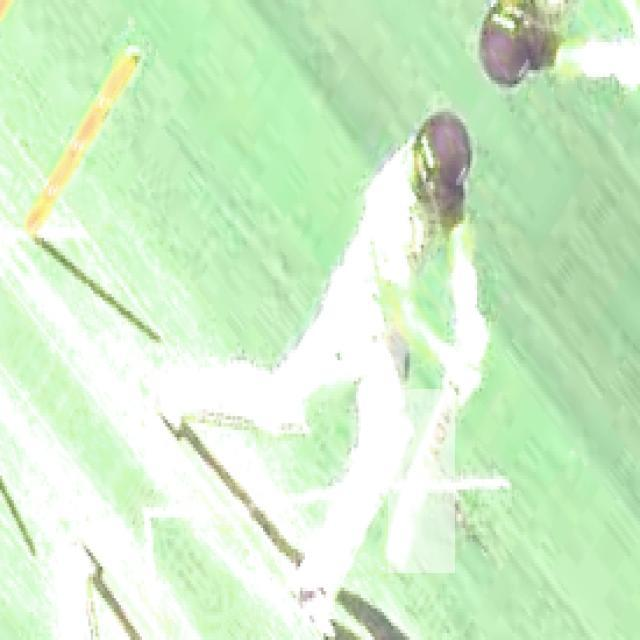bat: (376, 389, 453, 572)
toe: (380, 558, 438, 571)
